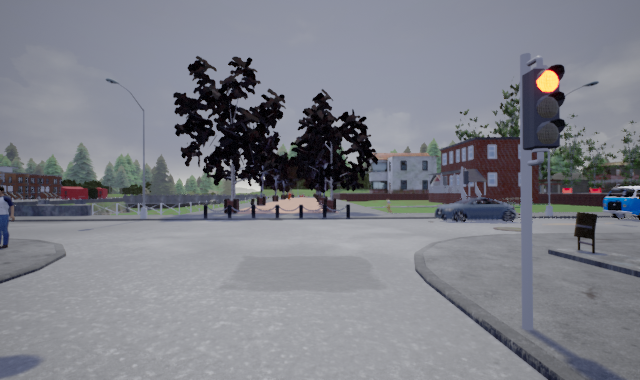pedestrian: (1, 184, 24, 249), (383, 195, 394, 213)
vehicle: (431, 196, 522, 223), (601, 184, 639, 221)
